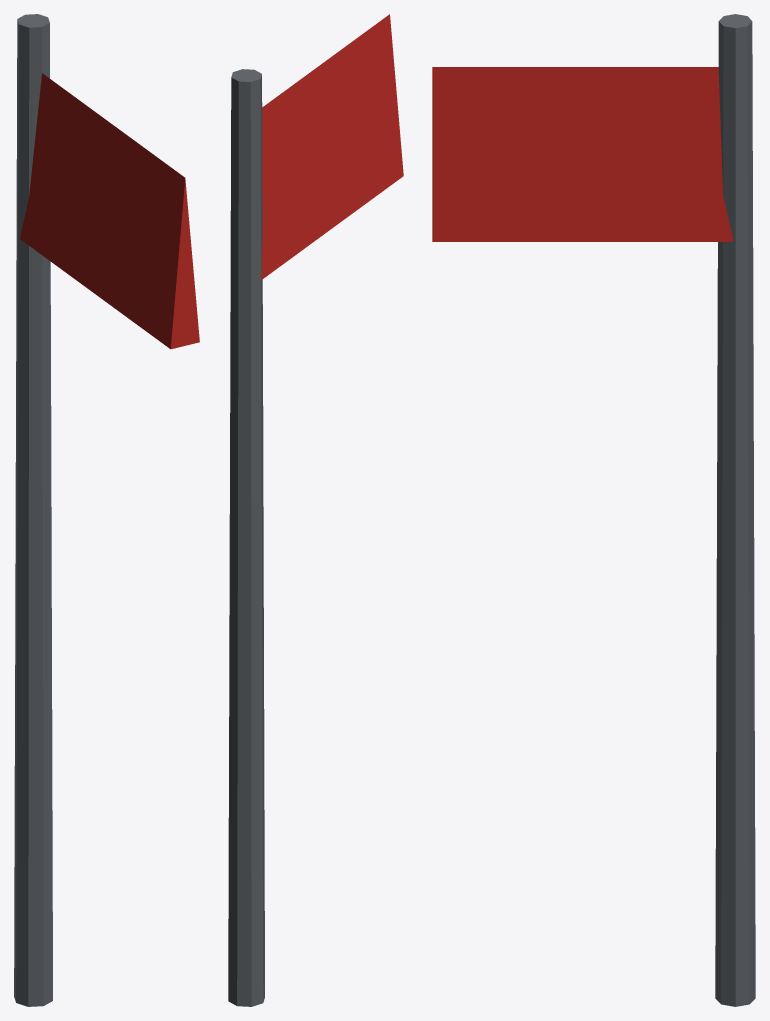
File: goal_flag.obj
3 views of the same model, side by side, from view 1: azimuth 30°, elevation 25°; view 2: azimuth 150°, elevation 25°; view 3: azimuth 270°, elevation 25° (orthographic). The views are drawn at different scales.
Visible parts, largest first — view 1: pole, cloth; view 2: pole, cloth; view 3: cloth, pole.
Boxes of the visible parts, bbox=[...] form: pole: bbox=[14, 14, 52, 1006]; cloth: bbox=[20, 73, 199, 349]; pole: bbox=[228, 69, 264, 1006]; cloth: bbox=[261, 14, 403, 279]; cloth: bbox=[432, 67, 733, 241]; pole: bbox=[715, 14, 755, 1006].
Size of the model in its own units: 0.12 by 3.2 by 0.96.
